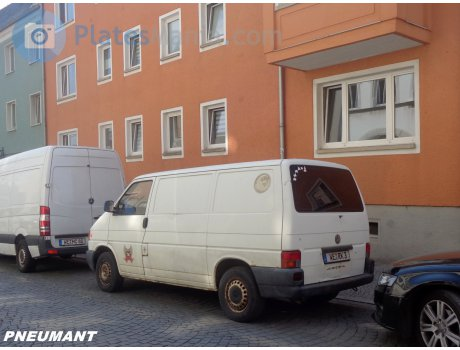License Plates: (325, 251, 354, 258)
